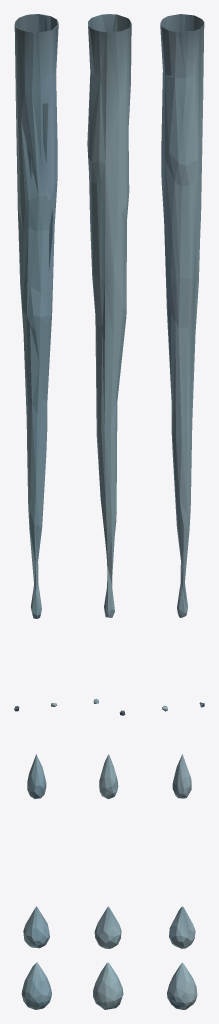
File: vfx_drip.glb
3 renders of one model, left to right at view 1: azimuth 90°, elevation 25°; view 2: azimuth 210°, elevation 25°; view 3: azimuth 270°, elevation 25°, orthographic.
Bounding box in the file's own units: 0.0781 × 1.9 × 0.0779.
